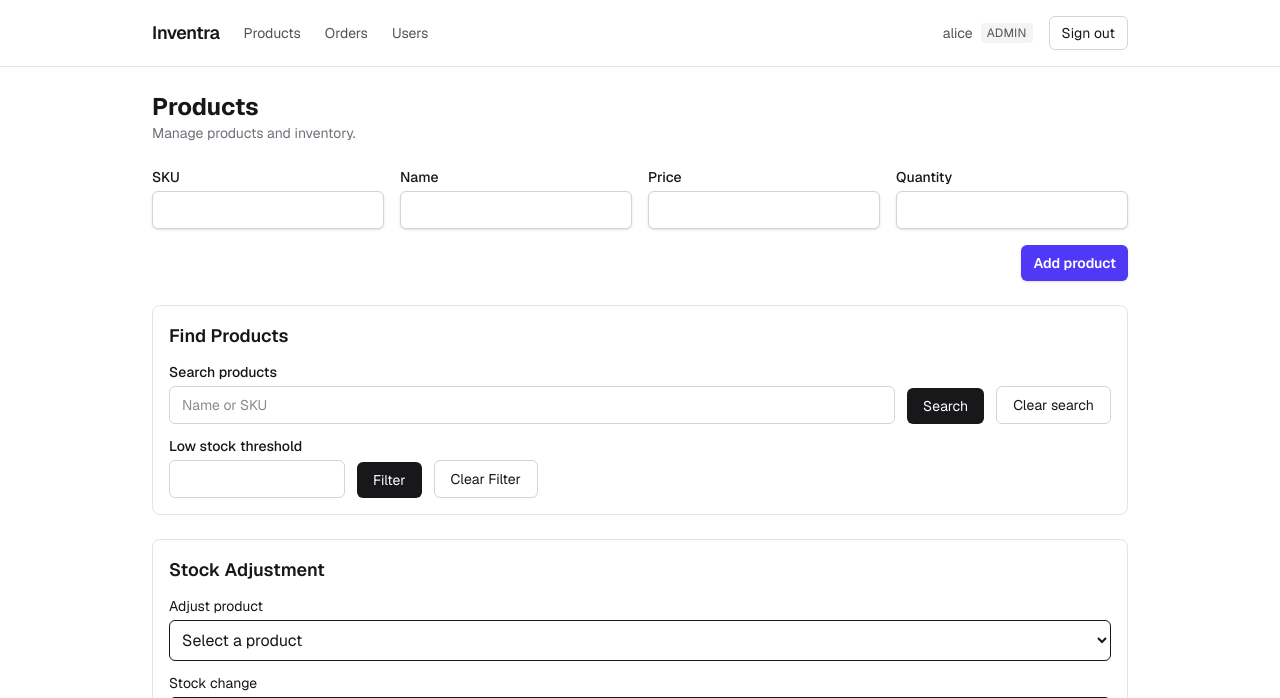
Test: ProductsPage › adjusts product stock and updates the displayed quantity
Step 1. Select "Mechanical Keyboard (KB-001)" in the dropdown labelled "Adjust product" → (640, 640), box [169,620,1111,661]
(page scrolled)
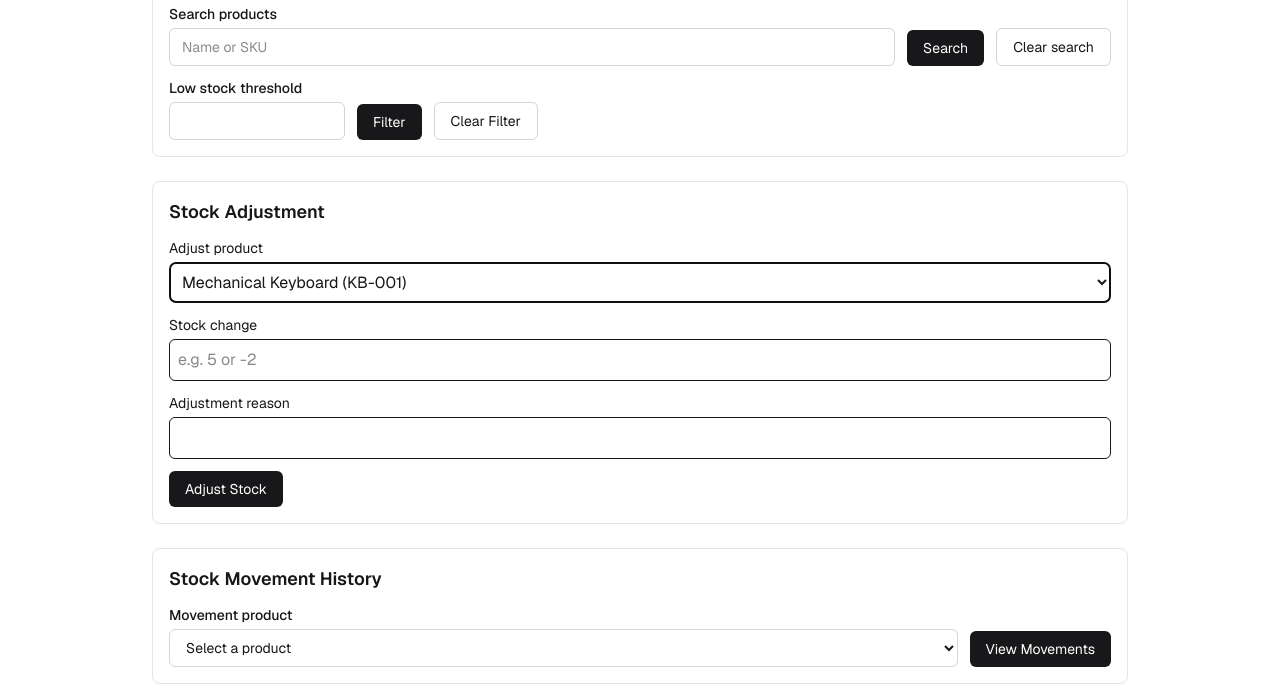
Step 2. Type "5" into the number field labelled "Stock change" → (640, 360), box [169,339,1111,381]
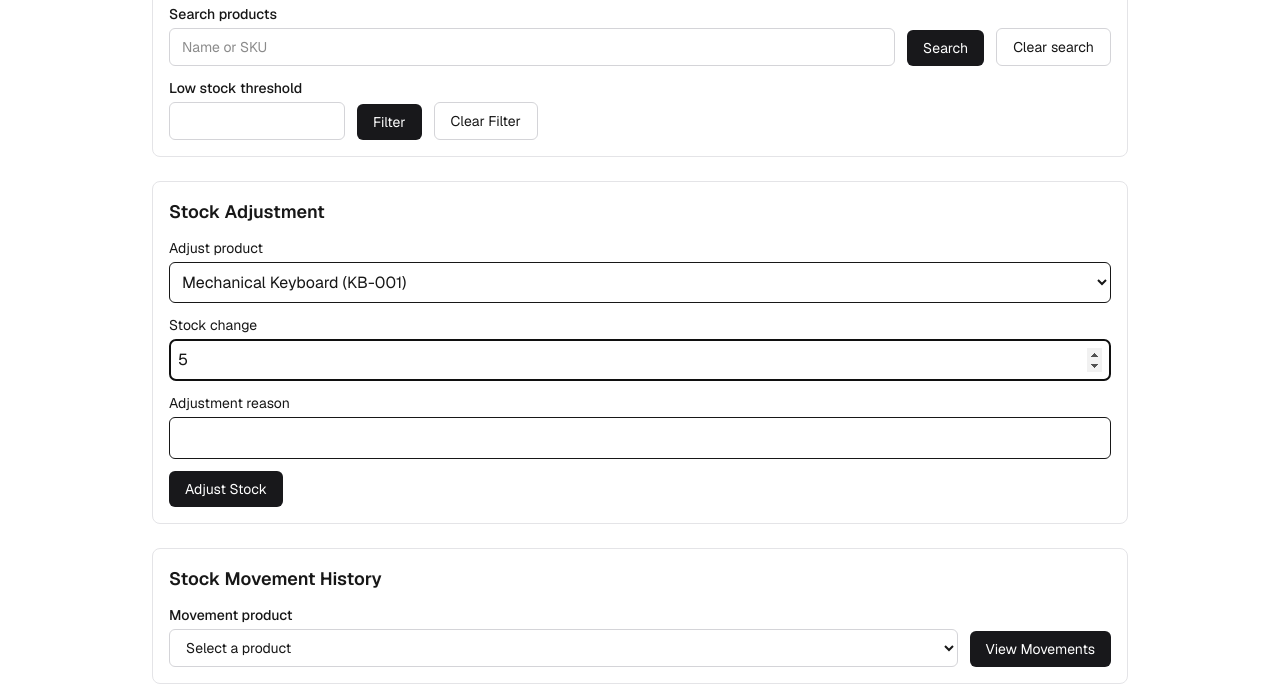
Step 3. Type "restock" into the field labelled "Adjustment reason" → (640, 438), box [169,417,1111,459]
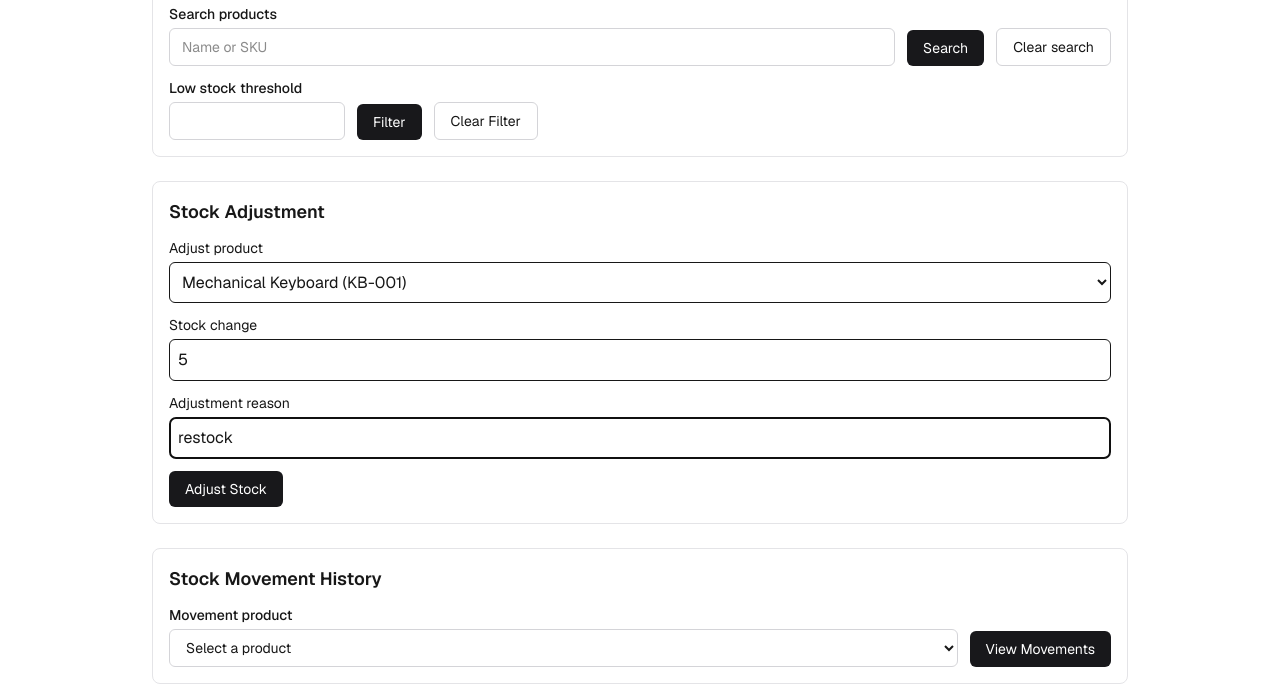
Step 4. Click the button "Adjust Stock" → (226, 489), box [169,471,283,507]
(page scrolled)
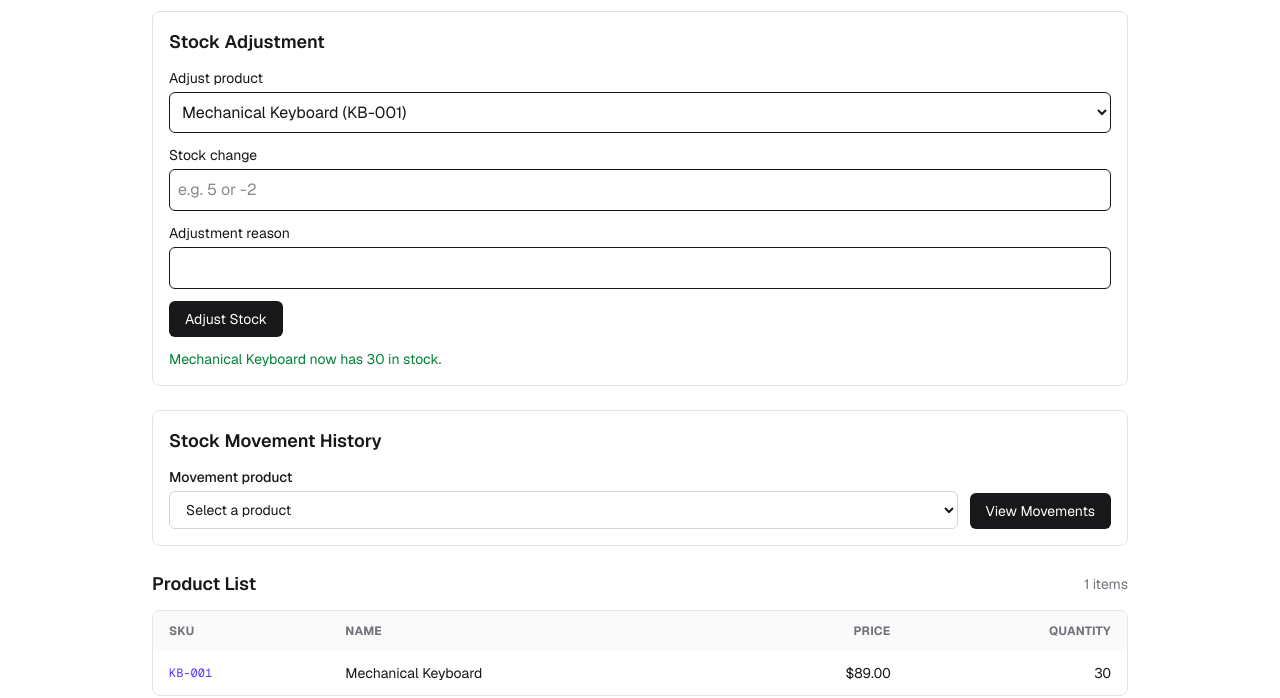
Now the text "30" is shown, box [907,651,1127,695]
